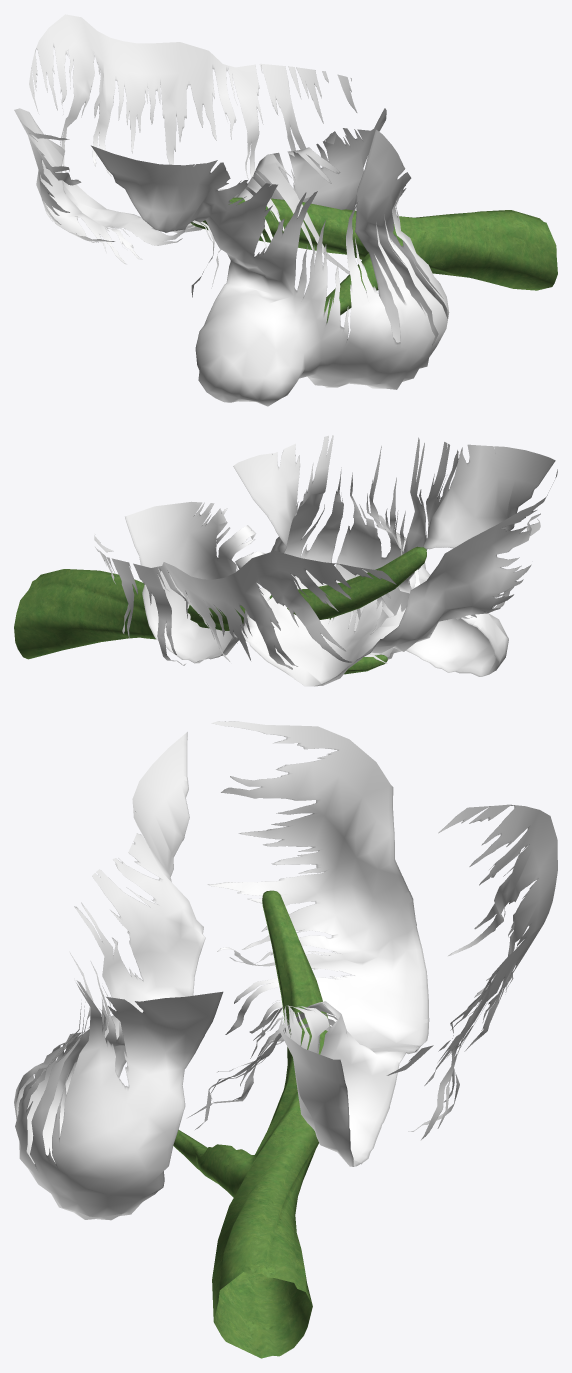
The model's file is SM_ENV_KNFRST_Leaf_A.FBX.
The picture shows the model from 3 angles, top to bottom: view 1: azimuth 30°, elevation 25°; view 2: azimuth 150°, elevation 25°; view 3: azimuth 270°, elevation 25°; orthographic projection. The views are drawn at different scales.
Parts seen in each view (by area): view 1: SM_ENV_KNFRST_Leaf_A; view 2: SM_ENV_KNFRST_Leaf_A; view 3: SM_ENV_KNFRST_Leaf_A.
Part boxes in pixels (bbox=[...]): SM_ENV_KNFRST_Leaf_A: bbox=[14, 14, 557, 406]; SM_ENV_KNFRST_Leaf_A: bbox=[14, 435, 557, 686]; SM_ENV_KNFRST_Leaf_A: bbox=[14, 721, 557, 1358].
Size of the model in its own units: 4078 by 2213 by 3146.
